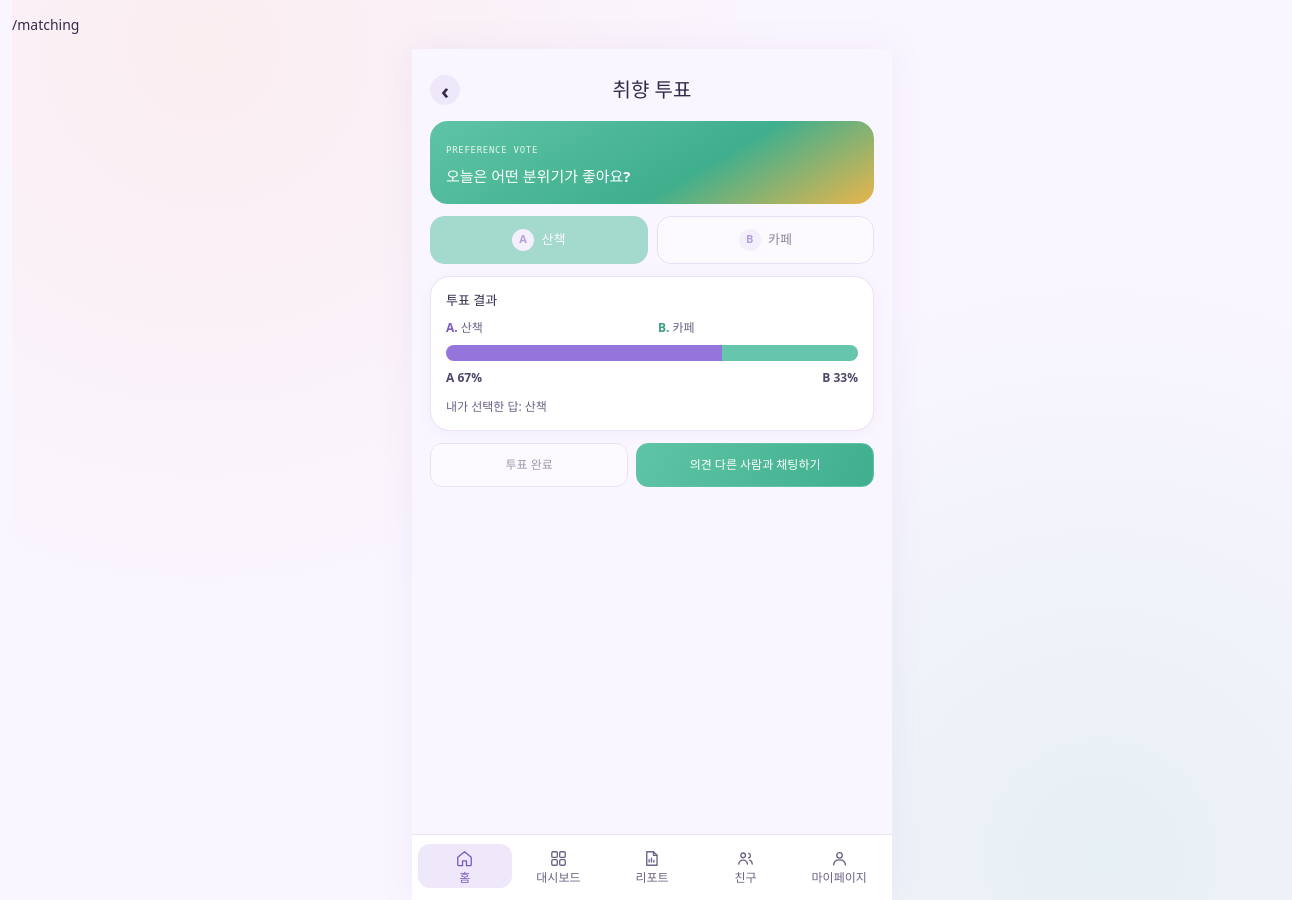
MatchingPage › keeps the server-side GROUP re-entry restriction
This screenshot has width=1292, height=900.
Click the button "의견 다른 사람과 채팅하기" at (755, 465), box [636, 443, 874, 487]
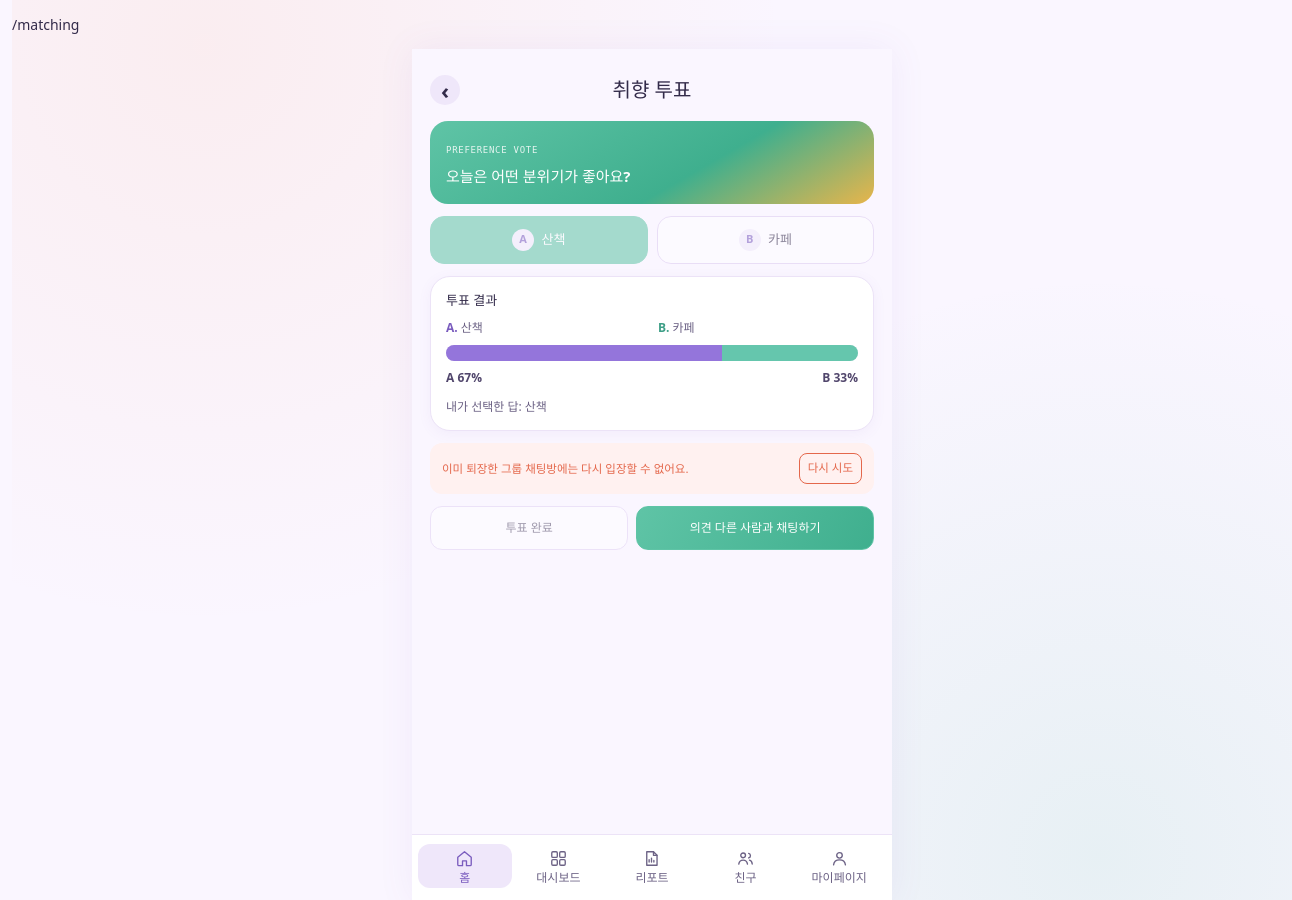
Expected: the text with test id "current-path" reads "/matching", [12, 15, 80, 34]
Expected: the message "이미 퇴장한 그룹 채팅방에는 다시 입장할 수 없어요. 다시 시도" is shown, [430, 443, 874, 494]
